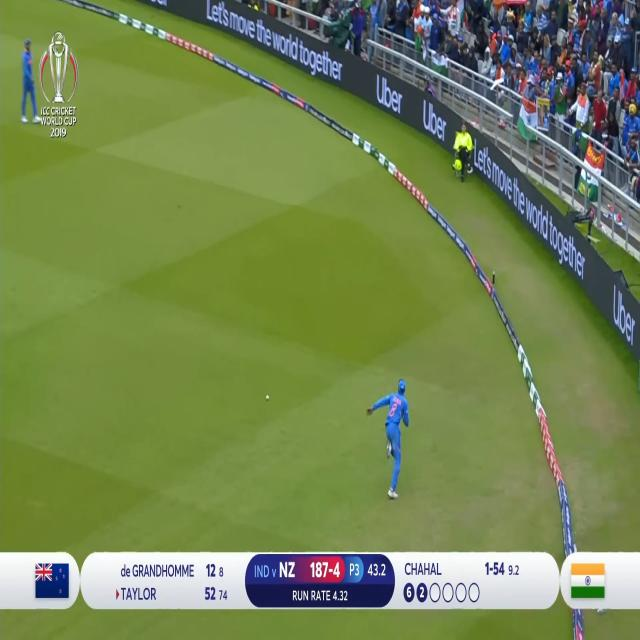ball: (265, 390, 271, 404)
